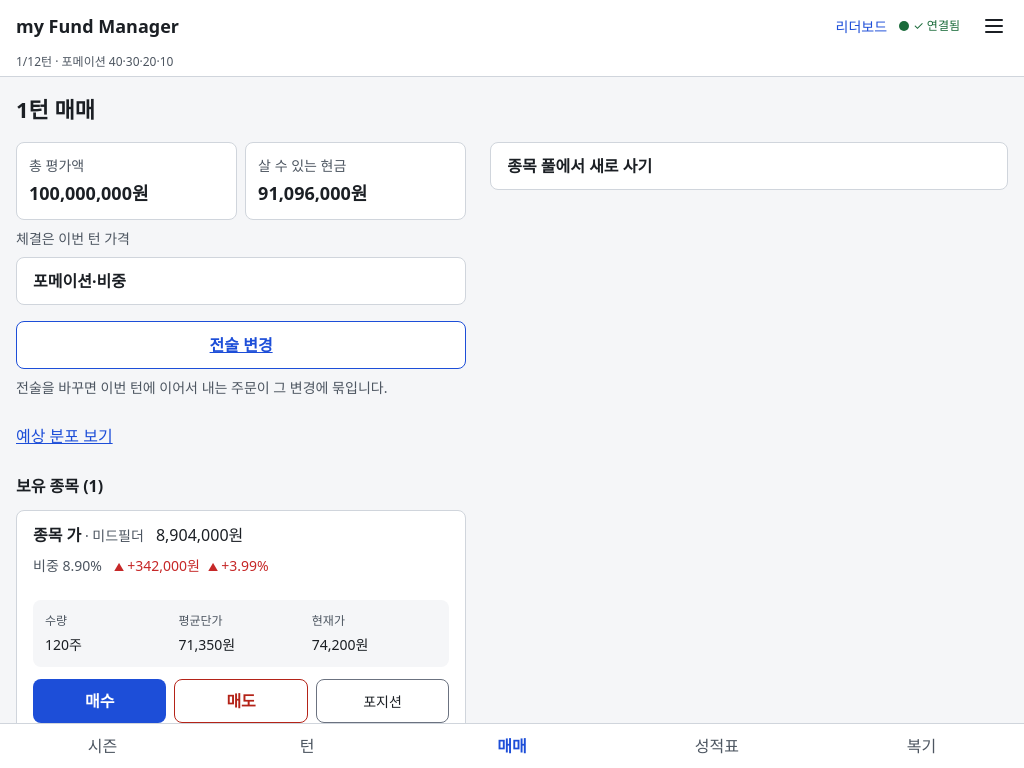
Scenario: PositionSheet › sends one request even when the button is pressed twice quickly
Click the button with aria-label "종목 가 포지션 변경" at (382, 701), box [316,679,449,723]
(page scrolled)
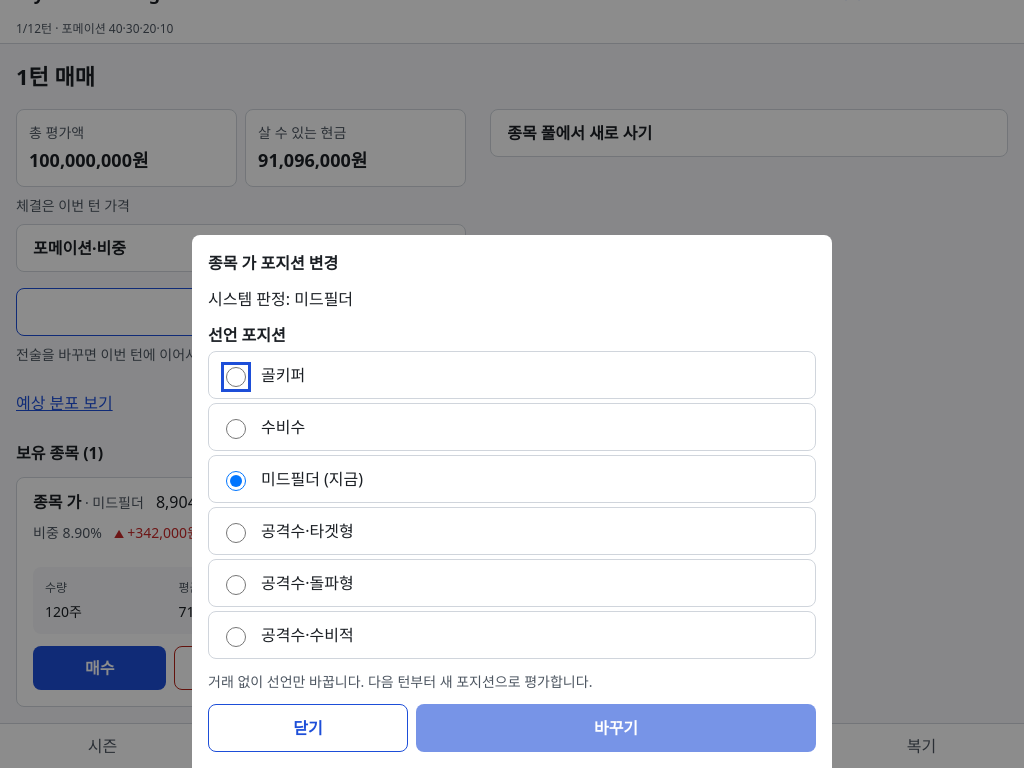
Click the radio button labelled "공격수·타겟형" at (236, 532), box [226,522,246,542]
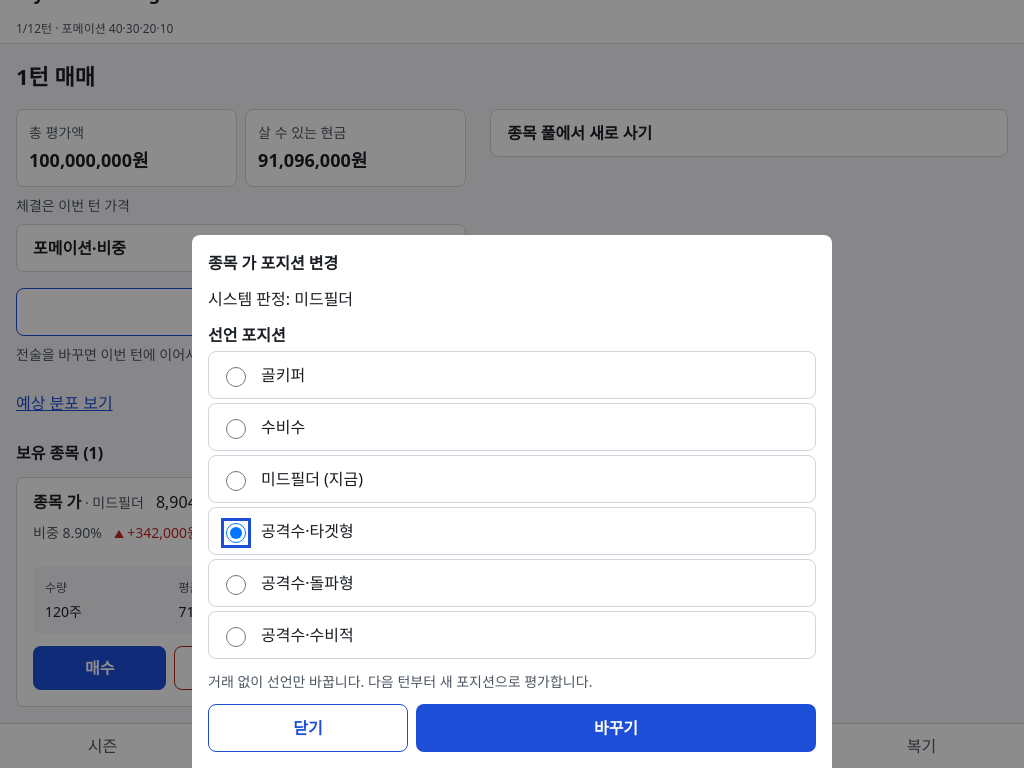
Double-click the button "바꾸기" at (616, 728), box [416,704,816,752]
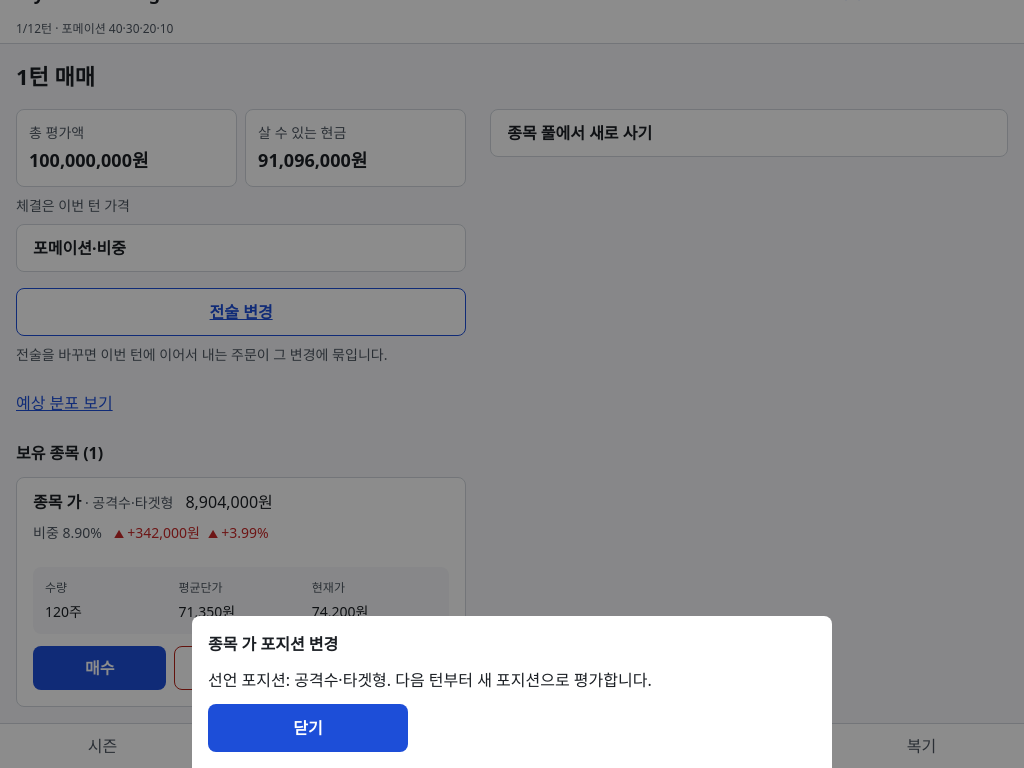
Result: the message "선언 포지션: 공격수·타겟형. 다음 턴부터 새 포지션으로 평가합니다." is shown at [208,669,652,691]
